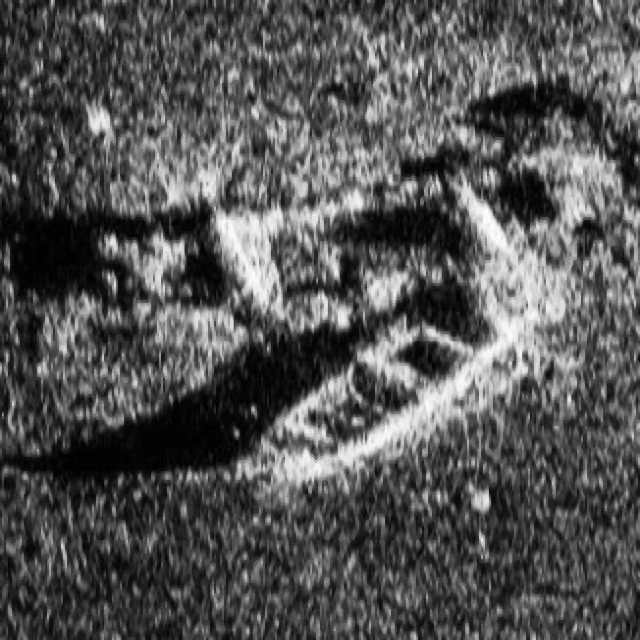Ship: (224, 214, 557, 496)
